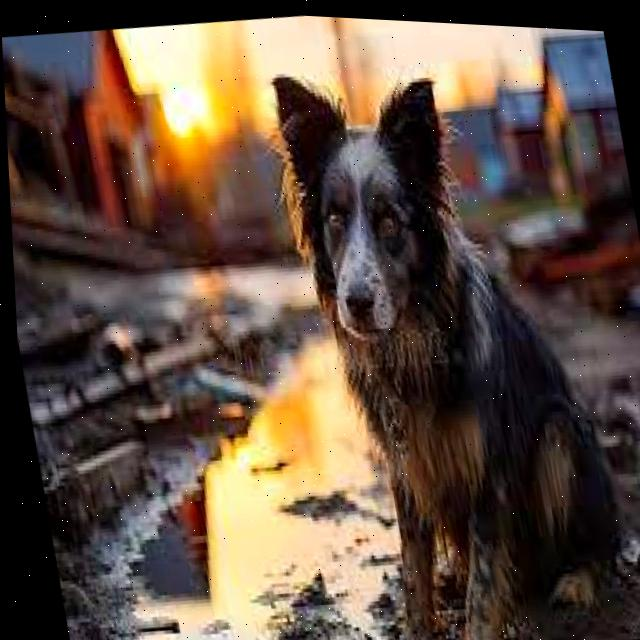dog: (246, 37, 640, 640)
